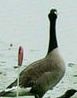goose: (4, 5, 69, 98)
